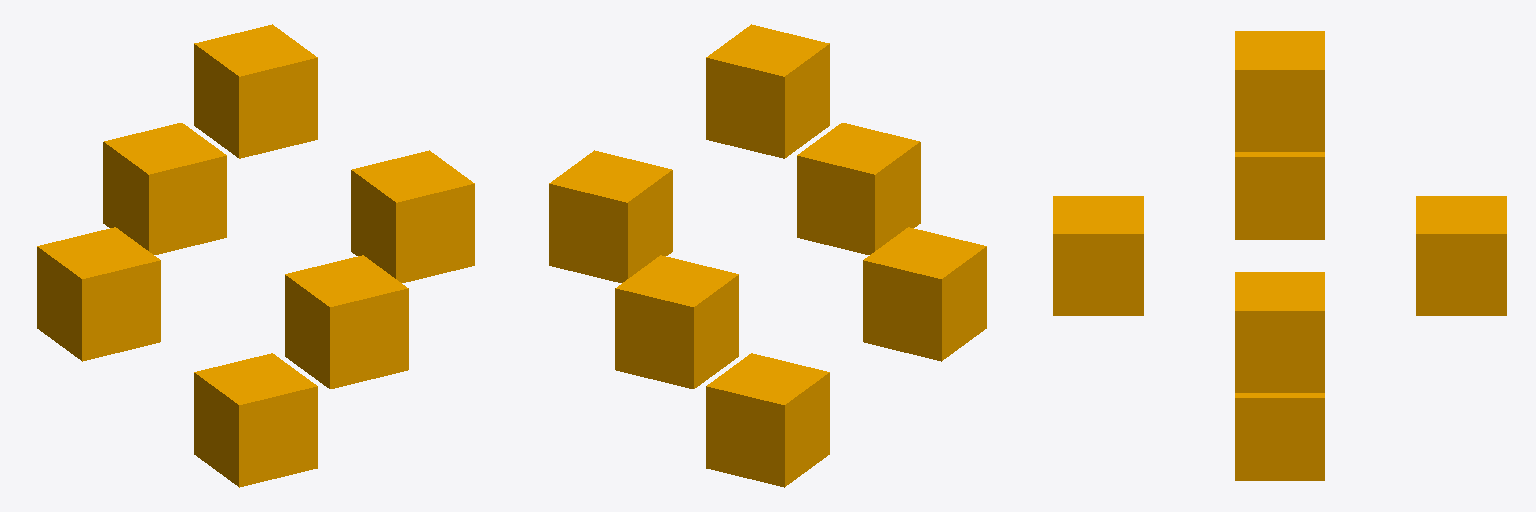
3 renders of one model, left to right at view 1: azimuth 30°, elevation 25°; view 2: azimuth 150°, elevation 25°; view 3: azimuth 270°, elevation 25°, orthographic.
Visible parts, largest first — view 1: EnergyPelletTunnel; view 2: EnergyPelletTunnel; view 3: EnergyPelletTunnel.
Boxes of the visible parts, x1,y1,x2,y2 form: EnergyPelletTunnel: [37, 24, 474, 487]; EnergyPelletTunnel: [549, 24, 986, 487]; EnergyPelletTunnel: [1053, 31, 1506, 480].
Bounding box in the file's own units: 5 × 5 × 5.
Materials: 1 (1 with a texture image).